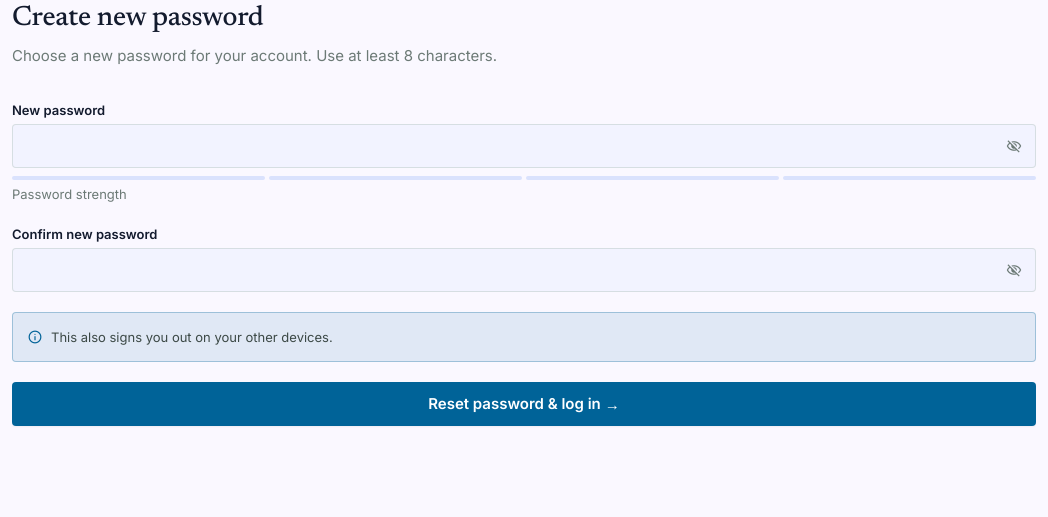
Test case: ResetPasswordForm: the form › reports a 429 as a banner and keeps what was typed
Type "a-brand-new-passphrase-77" into the password field labelled "New password" at (524, 146), box x1=12 y1=124 x2=1036 y2=168
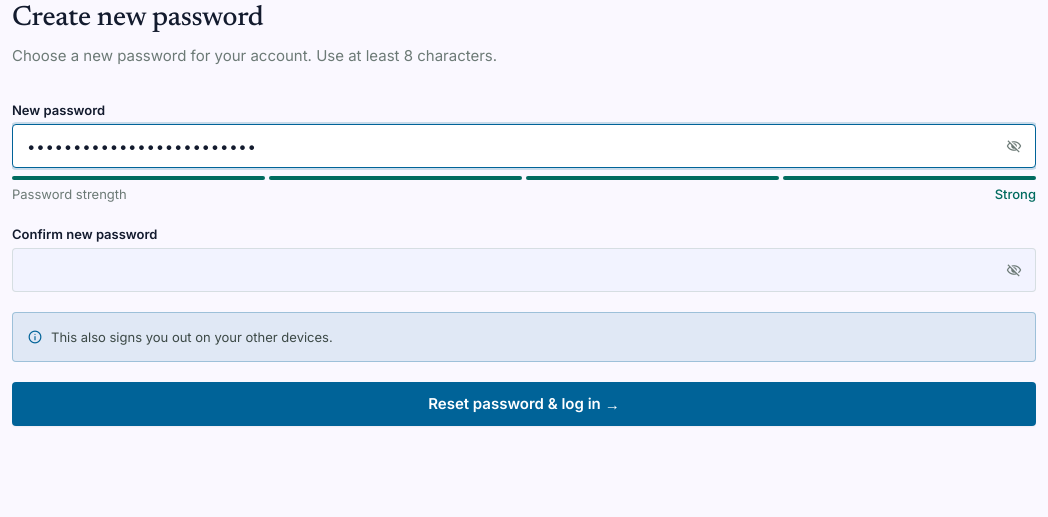
Type "a-brand-new-passphrase-77" into the password field labelled "Confirm new password" at (524, 270), box x1=12 y1=248 x2=1036 y2=292
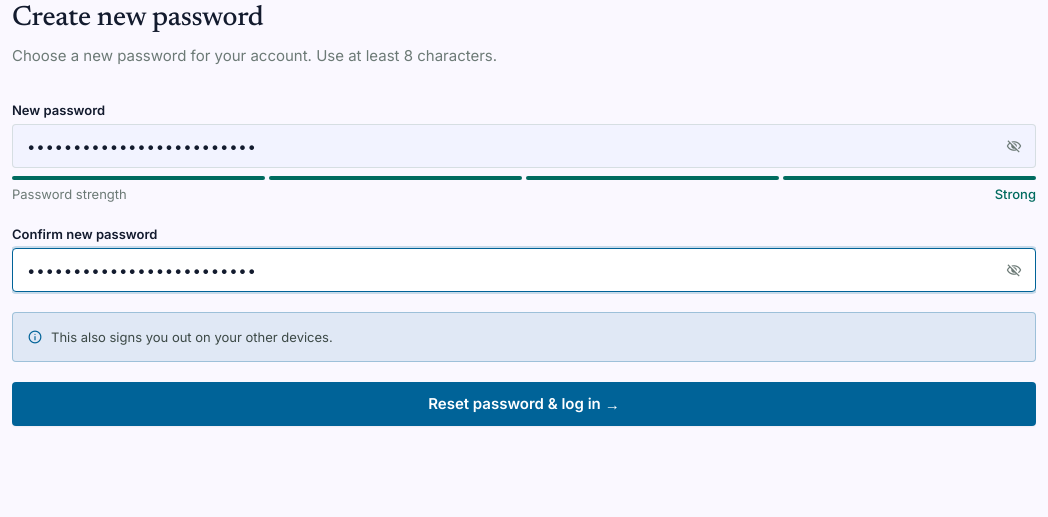
Click the button "Reset password & log in →" at (524, 404), box x1=12 y1=382 x2=1036 y2=426
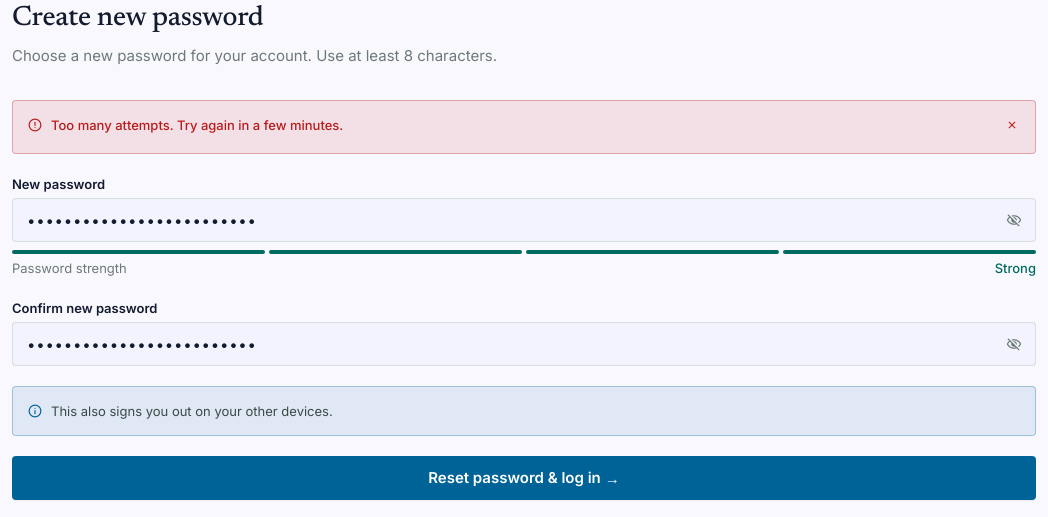
Expected: the message reads "Too many attempts. Try again in a few minutes.", x1=51 y1=117 x2=343 y2=133
